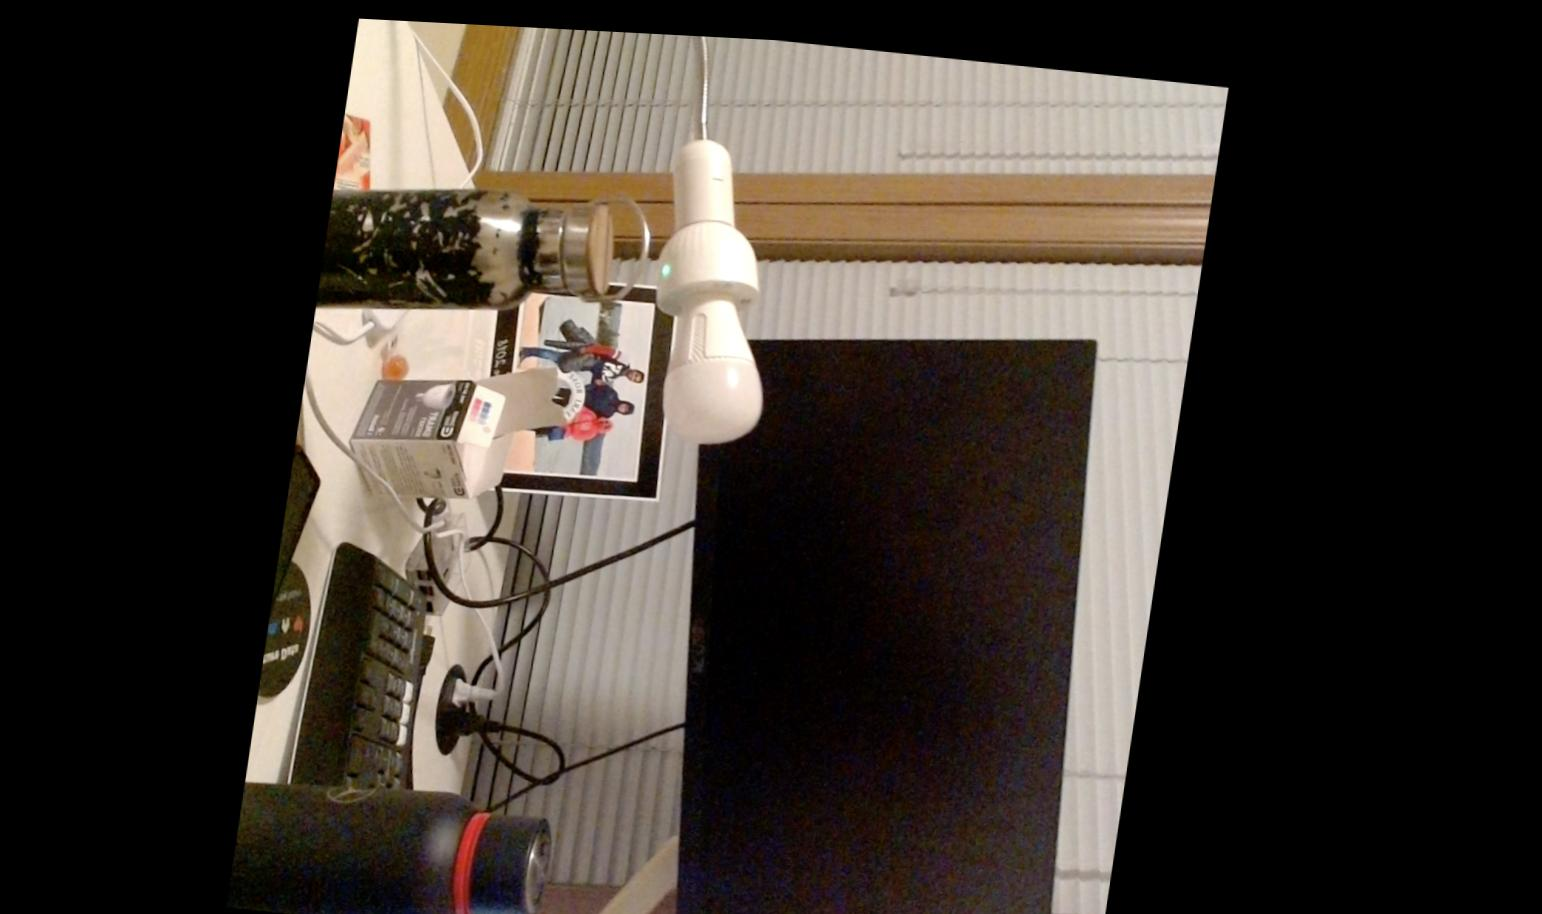Fan: (663, 281, 788, 443)
